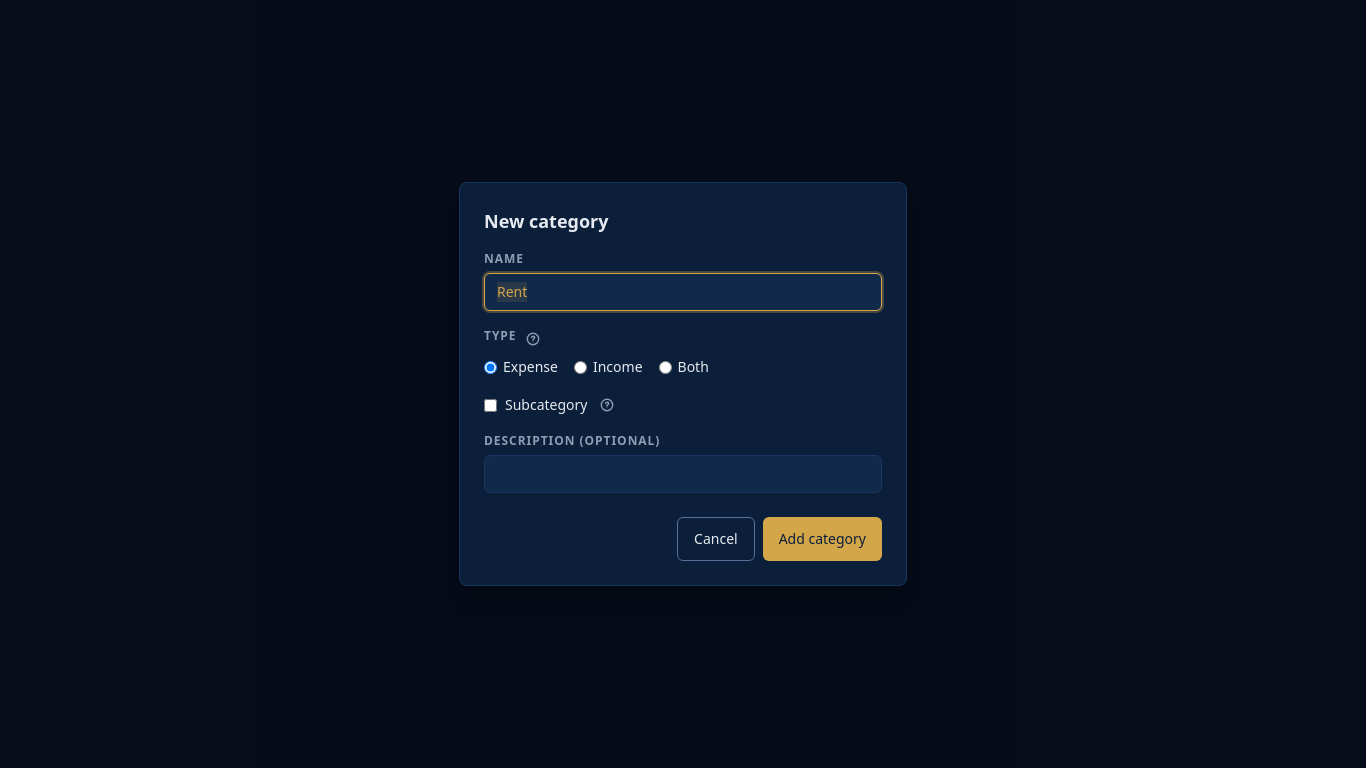
Scenario: AddCategoryModal › shows API error message via extractErrorMessage
What coordinates should you click on to do the following:
click the button "Add category"
I would click on:
 (822, 539)
Its box is 763,517 -> 882,561.
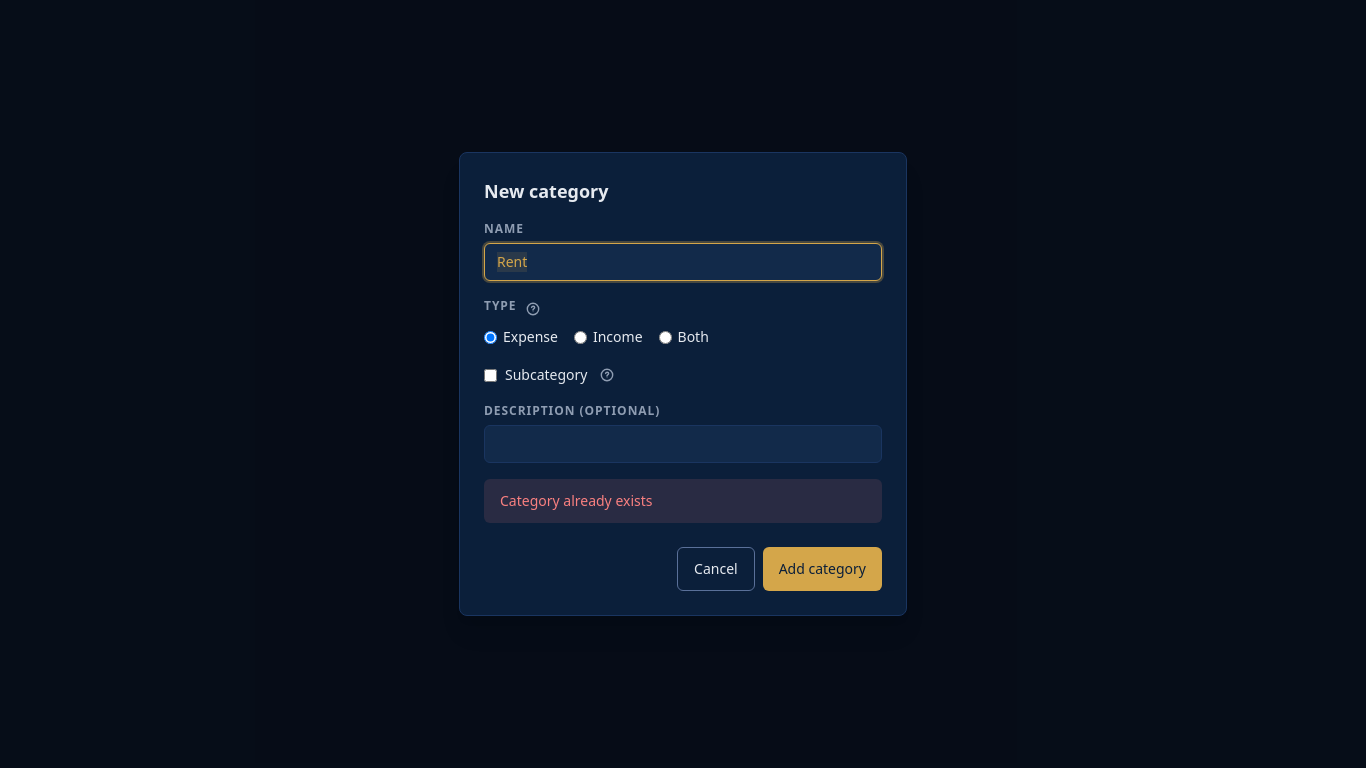
Result: the message reads "Category already exists" at 500,491 -> 652,510
